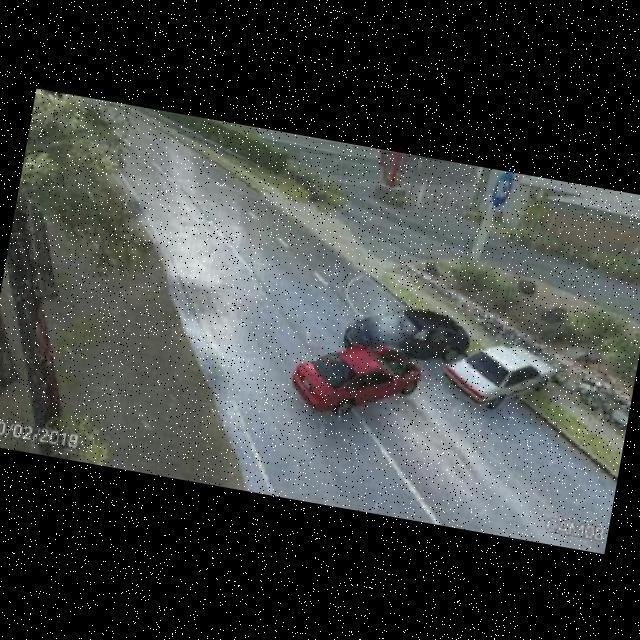accident: (283, 285, 468, 438)
